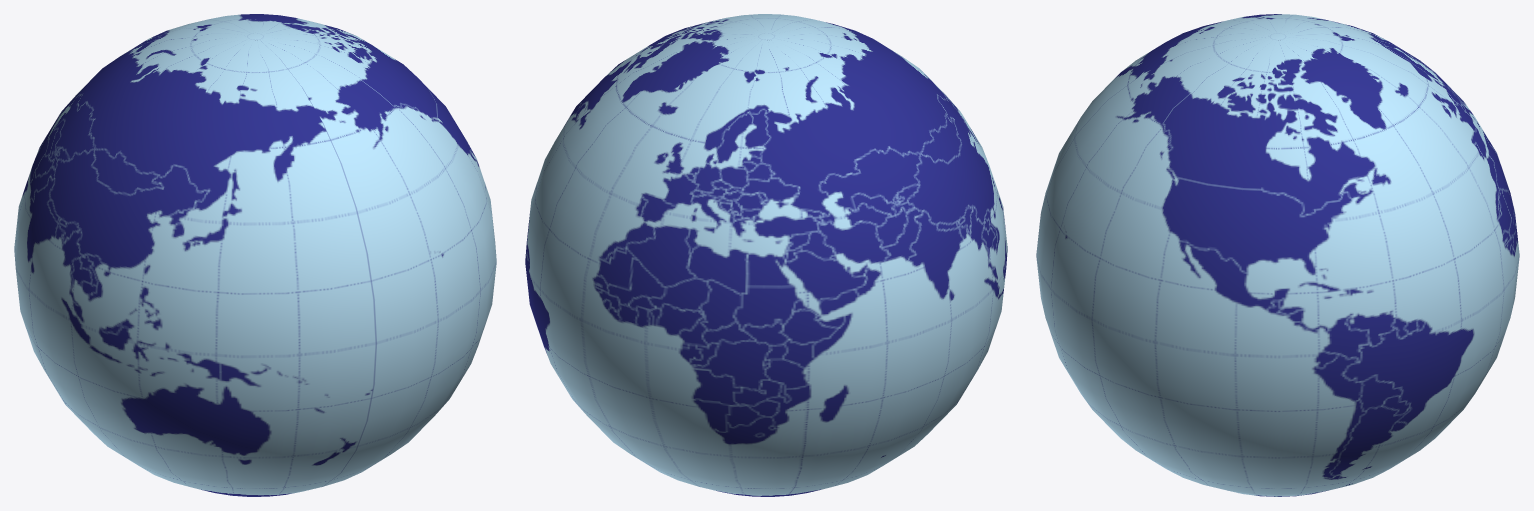
File: earth.glb
3 renders of one model, left to right at view 1: azimuth 30°, elevation 25°; view 2: azimuth 150°, elevation 25°; view 3: azimuth 270°, elevation 25°, orthographic.
Visible parts, largest first — view 1: 球体; view 2: 球体; view 3: 球体.
Boxes of the visible parts, x1=… form: 球体: x1=14, y1=14, x2=496, y2=496; 球体: x1=525, y1=14, x2=1007, y2=496; 球体: x1=1036, y1=14, x2=1519, y2=496.
Size of the model in its own units: 2 by 2 by 2.
1 material, 1 textured.
